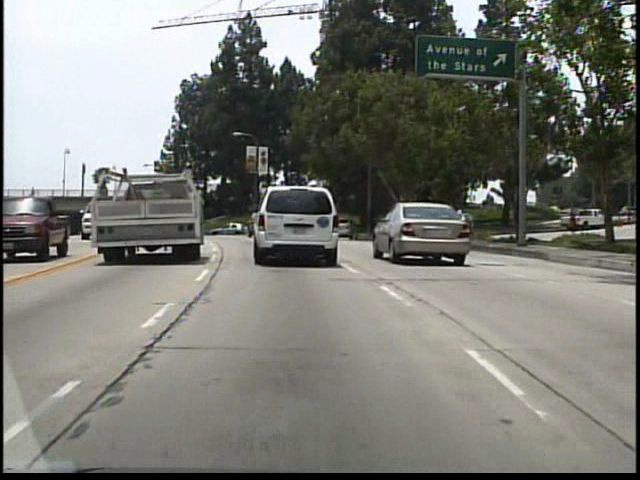person: (27, 183, 37, 203)
